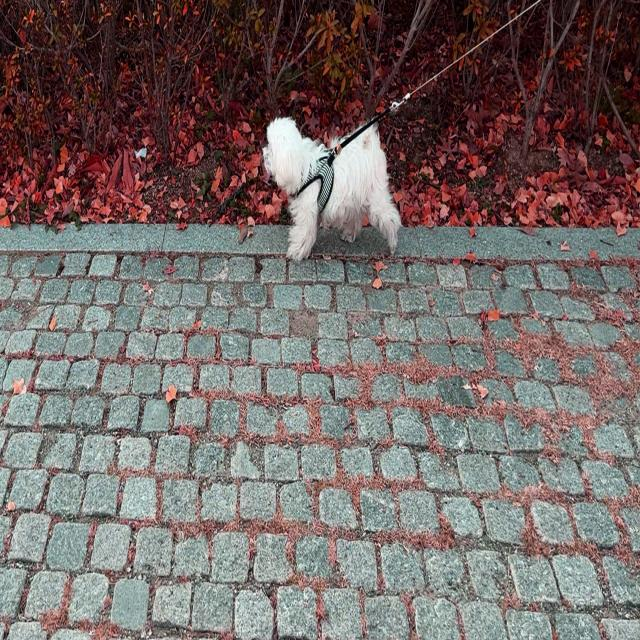Dog: (260, 112, 401, 263)
